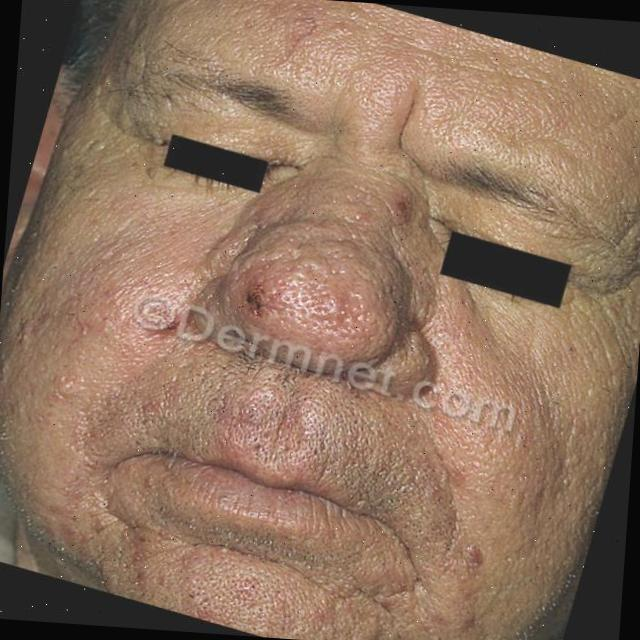skinredness: (34, 478, 417, 640)
